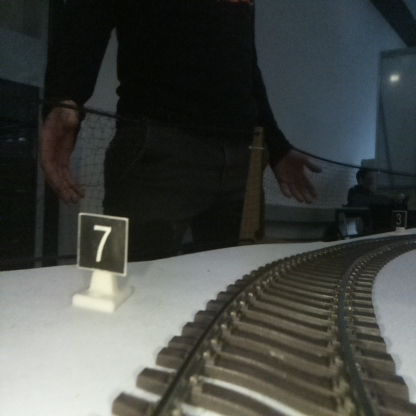black-stop-3: (392, 211, 406, 234)
black-stop-7: (79, 218, 126, 308)
